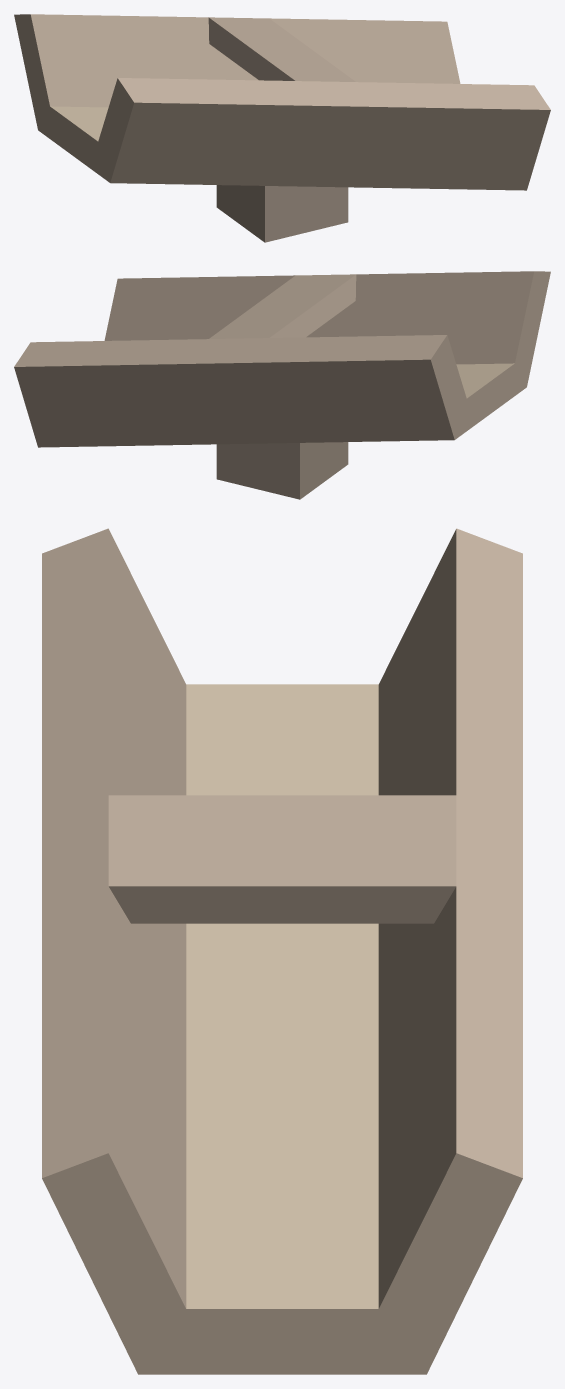
The model's file is Waterwheel_Flume_Ramp_Supported.glb.
The picture shows the model from 3 angles, top to bottom: view 1: azimuth 30°, elevation 25°; view 2: azimuth 150°, elevation 25°; view 3: azimuth 270°, elevation 25°; orthographic projection. The views are drawn at different scales.
Visible parts, largest first — view 1: flume_ramp_supported; view 2: flume_ramp_supported; view 3: flume_ramp_supported.
Part boxes in pixels (bbox=[...]): flume_ramp_supported: bbox=[14, 14, 550, 242]; flume_ramp_supported: bbox=[14, 271, 550, 499]; flume_ramp_supported: bbox=[42, 528, 522, 1374].
Size of the model in its own units: 1 by 0.5038 by 0.5.
